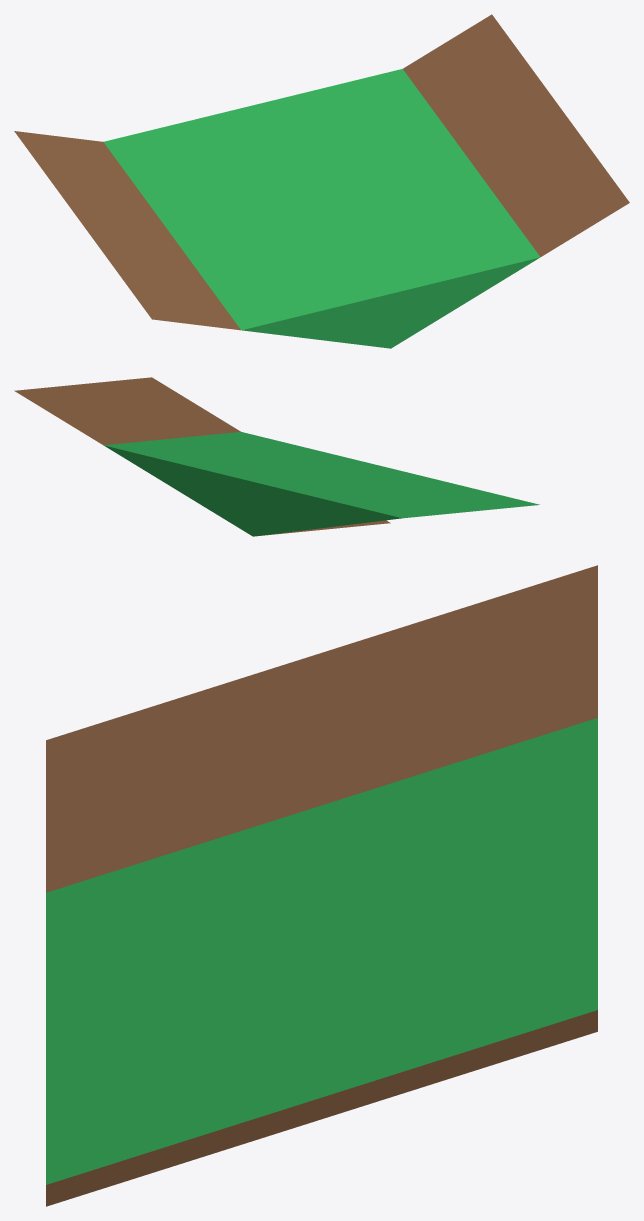
Rendered from SPW_Terrain_River_Plan B_Down.gltf.
3 views of the same model, one above another, from view 1: azimuth 30°, elevation 25°; view 2: azimuth 150°, elevation 25°; view 3: azimuth 270°, elevation 25° (orthographic). The views are drawn at different scales.
Parts seen in each view (by area): view 1: SPW_Terrain_River_Plan_B_Down; view 2: SPW_Terrain_River_Plan_B_Down; view 3: SPW_Terrain_River_Plan_B_Down.
Part boxes in pixels (box(x1,y1,x2,y2)): SPW_Terrain_River_Plan_B_Down: box(14, 14, 629, 348); SPW_Terrain_River_Plan_B_Down: box(14, 377, 539, 536); SPW_Terrain_River_Plan_B_Down: box(46, 565, 597, 1206).
Size of the model in its own units: 1575 by 551 by 787.
1 material, 1 textured.
